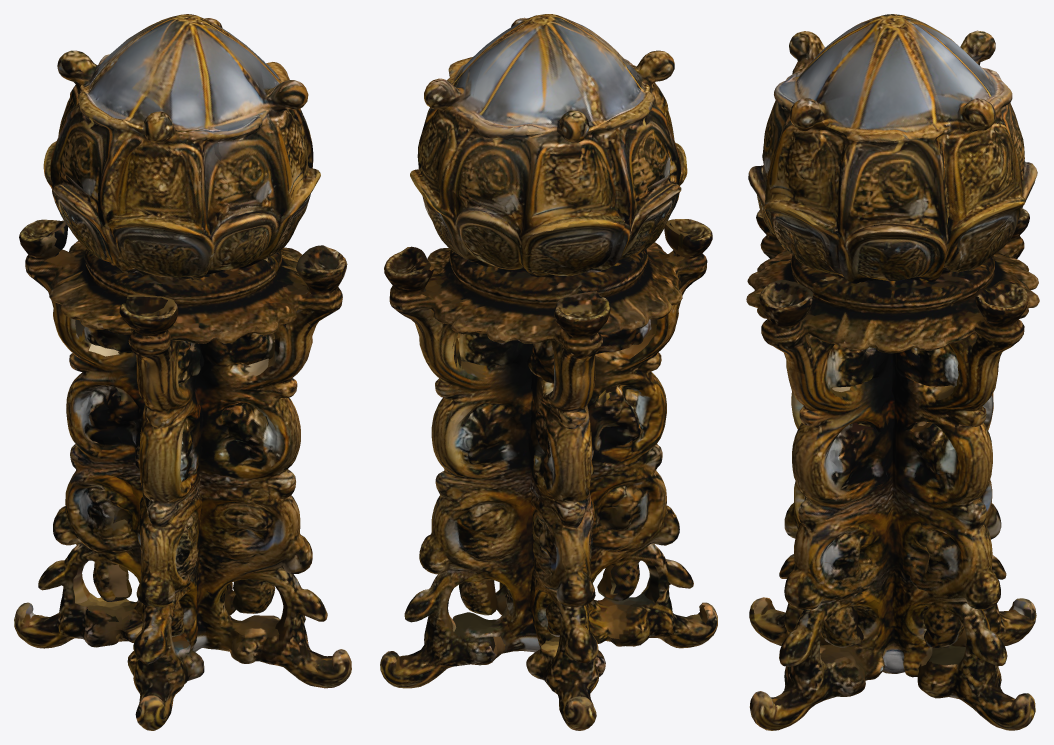
The picture shows the model from 3 angles, left to right: view 1: azimuth 30°, elevation 25°; view 2: azimuth 150°, elevation 25°; view 3: azimuth 270°, elevation 25°; orthographic projection. The views are drawn at different scales.
Parts seen in each view (by area): view 1: textured_mesh; view 2: textured_mesh; view 3: textured_mesh.
Boxes of the visible parts, x1=… form: textured_mesh: x1=14, y1=14, x2=351, y2=730; textured_mesh: x1=380, y1=14, x2=717, y2=730; textured_mesh: x1=746, y1=14, x2=1039, y2=730.
Bounding box in the file's own units: 0.7796 × 1.99 × 0.7926.
Materials: 1 (1 with a texture image).
